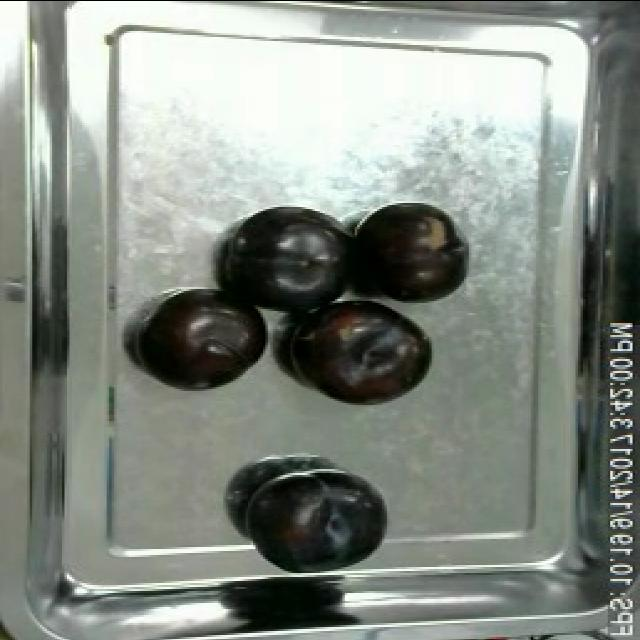Fruit: (238, 464, 397, 576), (290, 298, 436, 410), (215, 208, 348, 316), (139, 292, 273, 394), (348, 202, 472, 308)
